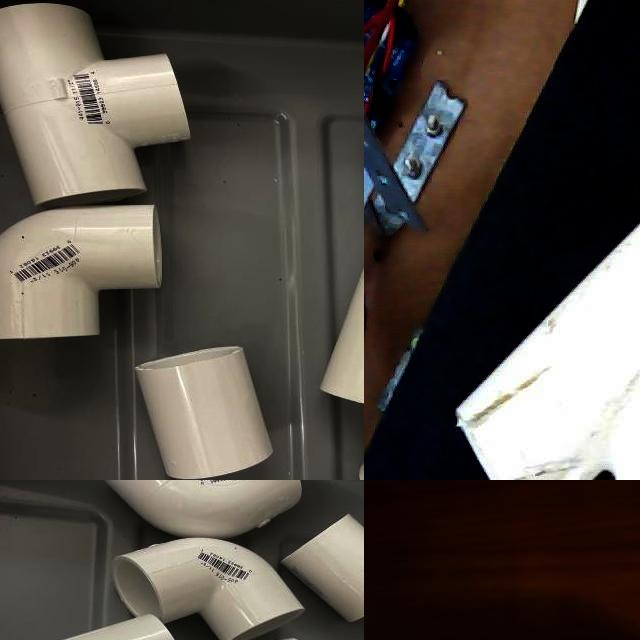Defective: (466, 357, 568, 435)
L Joint: (113, 538, 304, 640), (104, 480, 304, 540)
T Joint: (454, 220, 640, 480)
